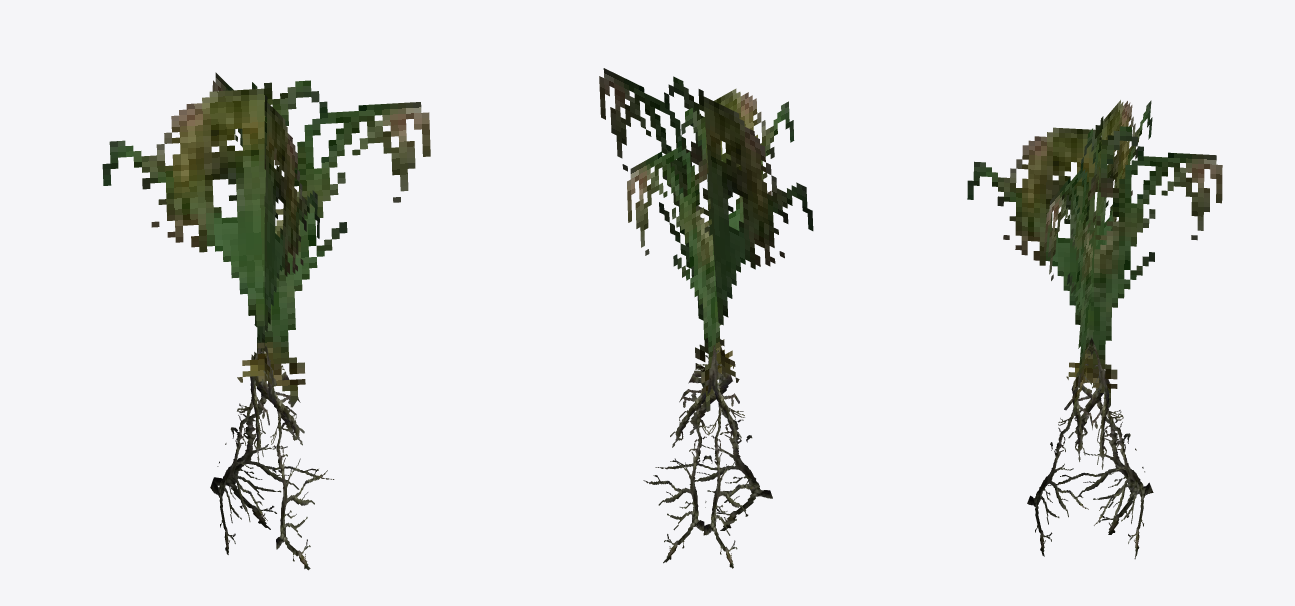
The model's file is OW_LOB_RICEPLANT_ONE.glb.
3 renders of one model, left to right at view 1: azimuth 30°, elevation 25°; view 2: azimuth 150°, elevation 25°; view 3: azimuth 270°, elevation 25°, orthographic. The views are drawn at different scales.
Parts seen in each view (by area): view 1: Mesh; view 2: Mesh; view 3: Mesh.
Boxes of the visible parts, <box> form: Mesh: <box>102,72,430,570</box>; Mesh: <box>599,68,813,568</box>; Mesh: <box>967,100,1222,559</box>.
Bounding box in the file's own units: 0.6759 × 0.7469 × 0.5926.
Materials: 2 (2 with a texture image).
